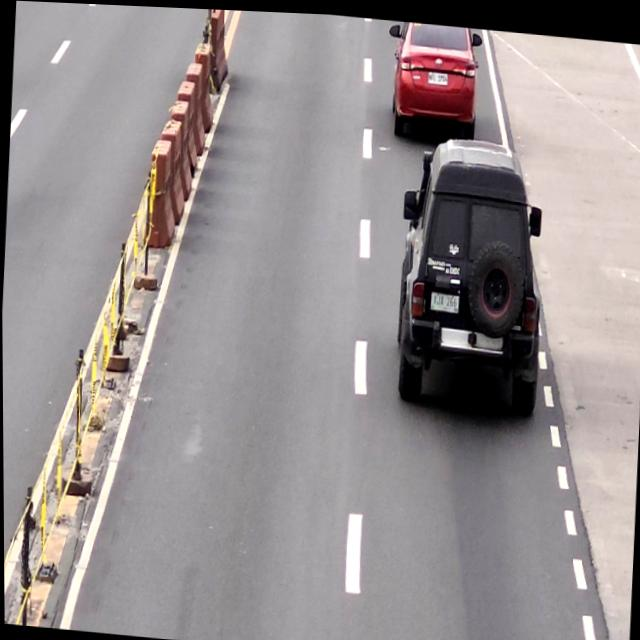Car: (392, 127, 551, 418), (385, 17, 485, 143)
License-Plate: (430, 287, 460, 310), (427, 66, 449, 83)
